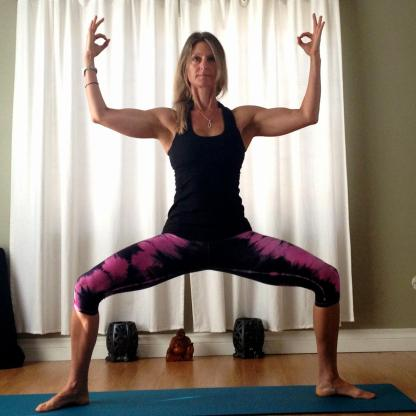godness: (26, 6, 382, 416)
